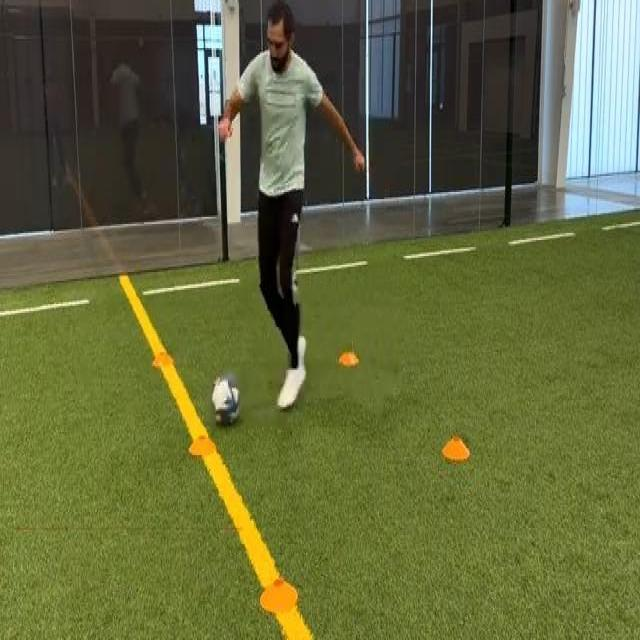Soccer Ball: (212, 375, 241, 429)
